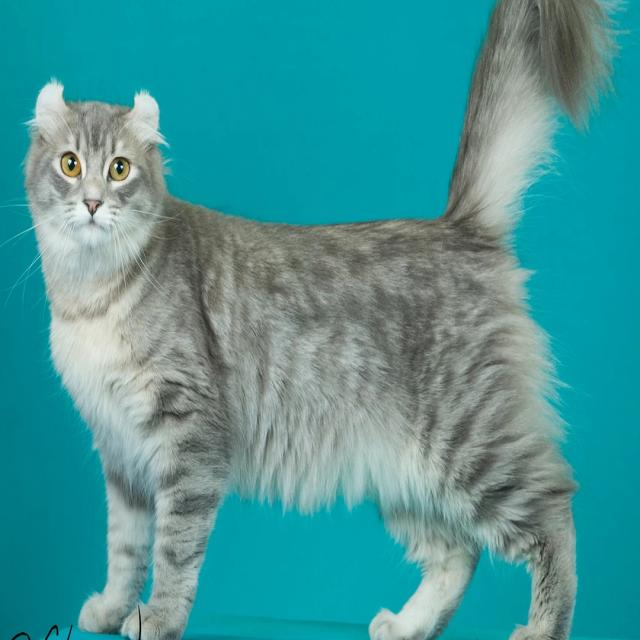American Curl: (21, 0, 613, 640)
